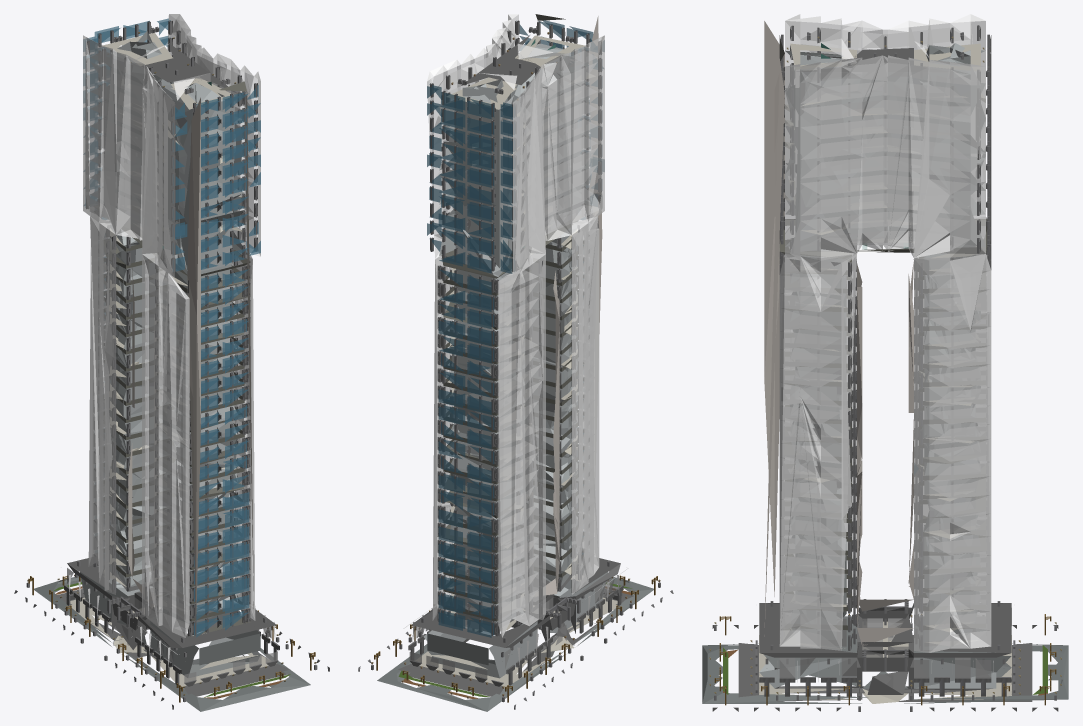
The picture shows the model from 3 angles, left to right: view 1: azimuth 30°, elevation 25°; view 2: azimuth 150°, elevation 25°; view 3: azimuth 270°, elevation 25°; orthographic projection. The views are drawn at different scales.
Parts seen in each view (by area): view 1: Object_5, Object_3; view 2: Object_3, Object_5; view 3: Object_3, Object_5.
Part boxes in pixels (x1,y1,x2,y2): Object_5: (14,20,329,711); Object_3: (67,14,277,683); Object_3: (409,14,622,678); Object_5: (358,14,673,711); Object_3: (777,14,1011,688); Object_5: (702,21,1068,711).
Size of what is drawn, in the model's own units: 38.5 by 137 by 71.
